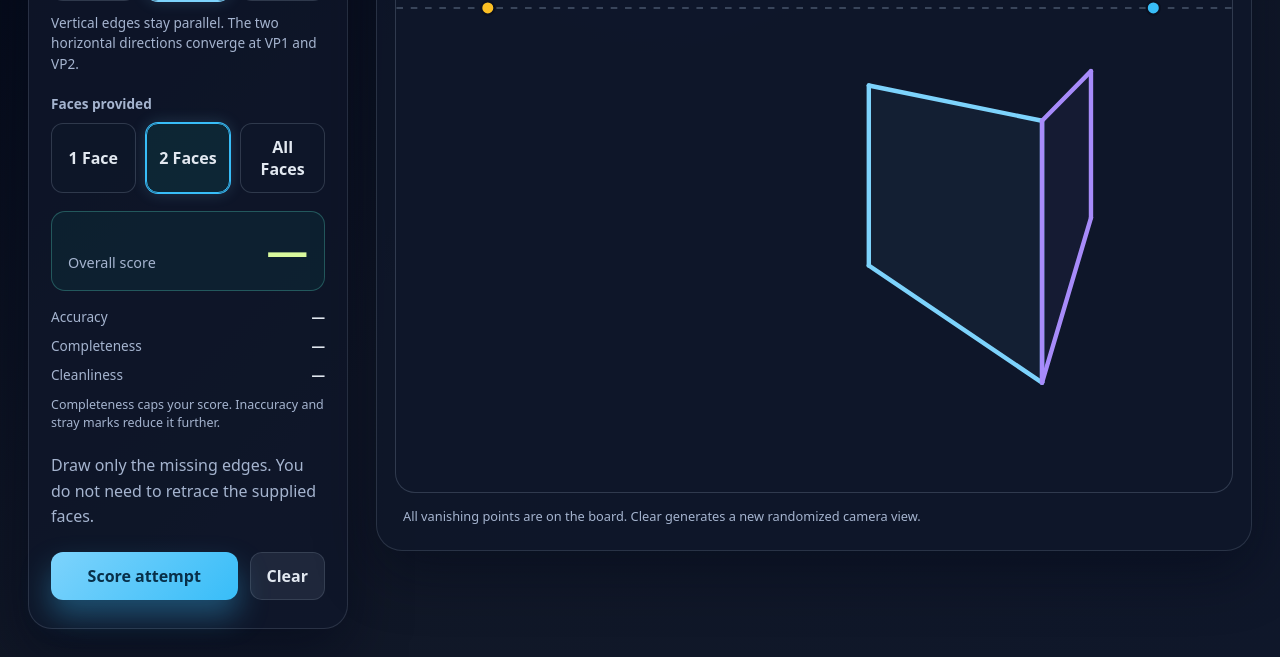
Test case: can submit, reveal the solution, and start again without accumulating canvases
(page scrolled)
Click the button "Score attempt": (144, 576) [51,552,238,600]
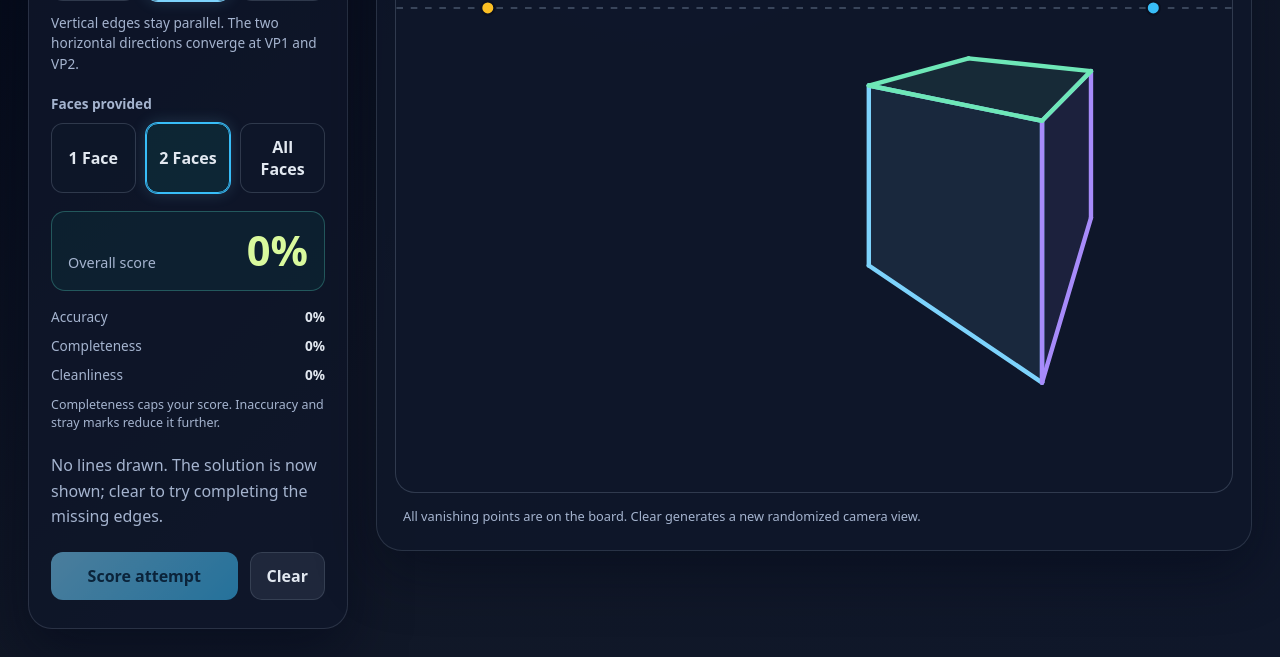
Expected: the text named "Overall score" reads "0%", [247,222,308,278]
Expected: the button "Score attempt" is disabled, [51,552,238,600]
Click the button "Clear": (287, 576) [250,552,325,600]
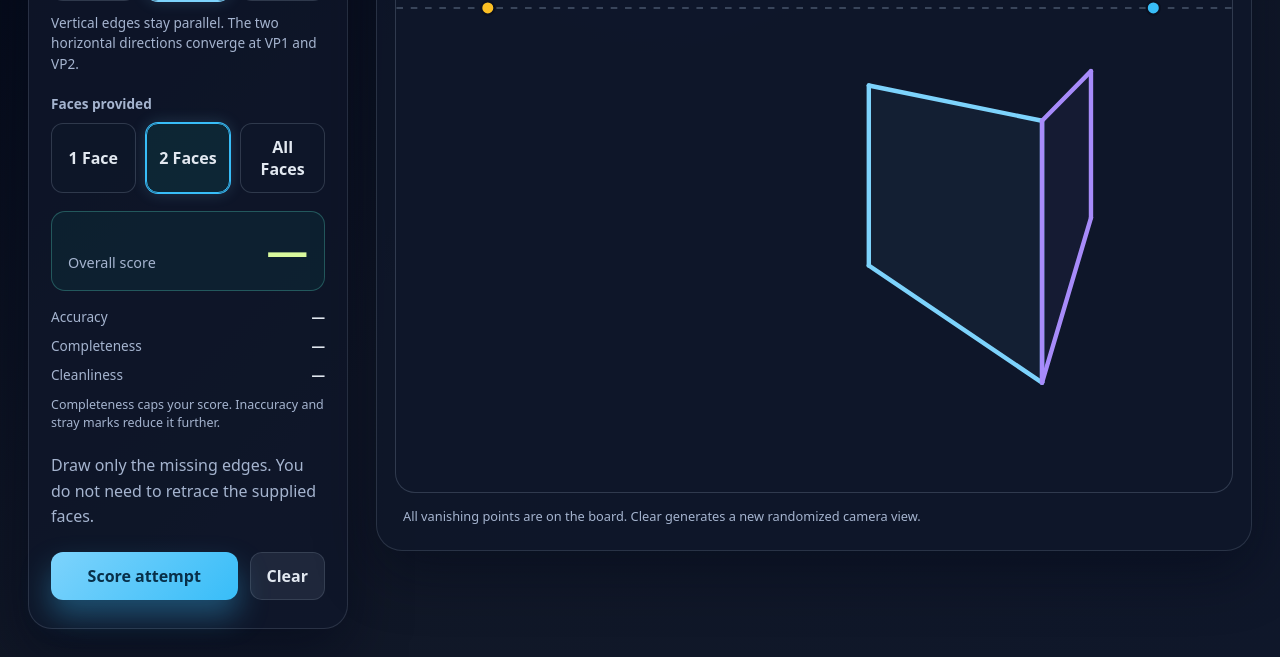
Expected: the text "0%" is gone
Expected: the button "Score attempt" is enabled, [51,552,238,600]
